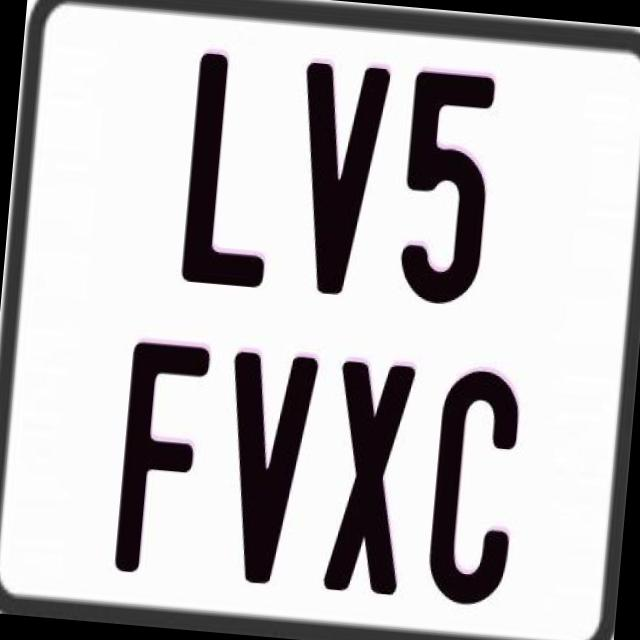5: (395, 68, 497, 310)
C: (422, 364, 526, 610)
F: (109, 337, 207, 575)
L: (180, 52, 286, 290)
V: (214, 346, 321, 584), (284, 62, 388, 302)
X: (320, 358, 416, 598)
